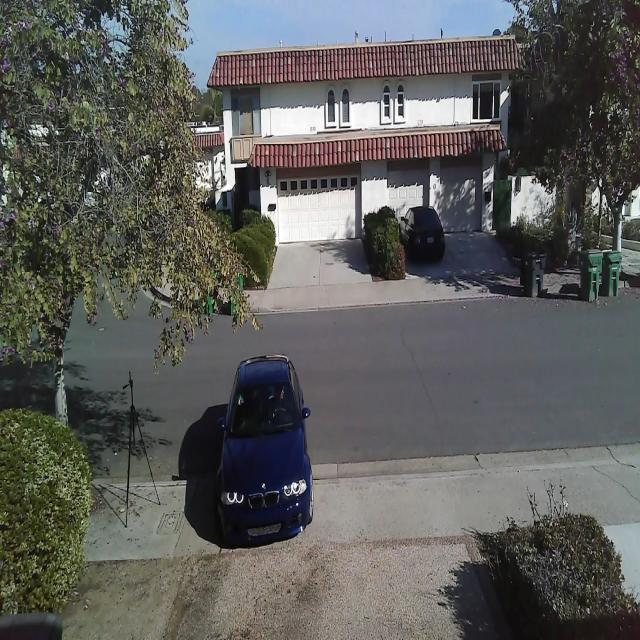Carbeetle: (194, 324, 329, 572)
